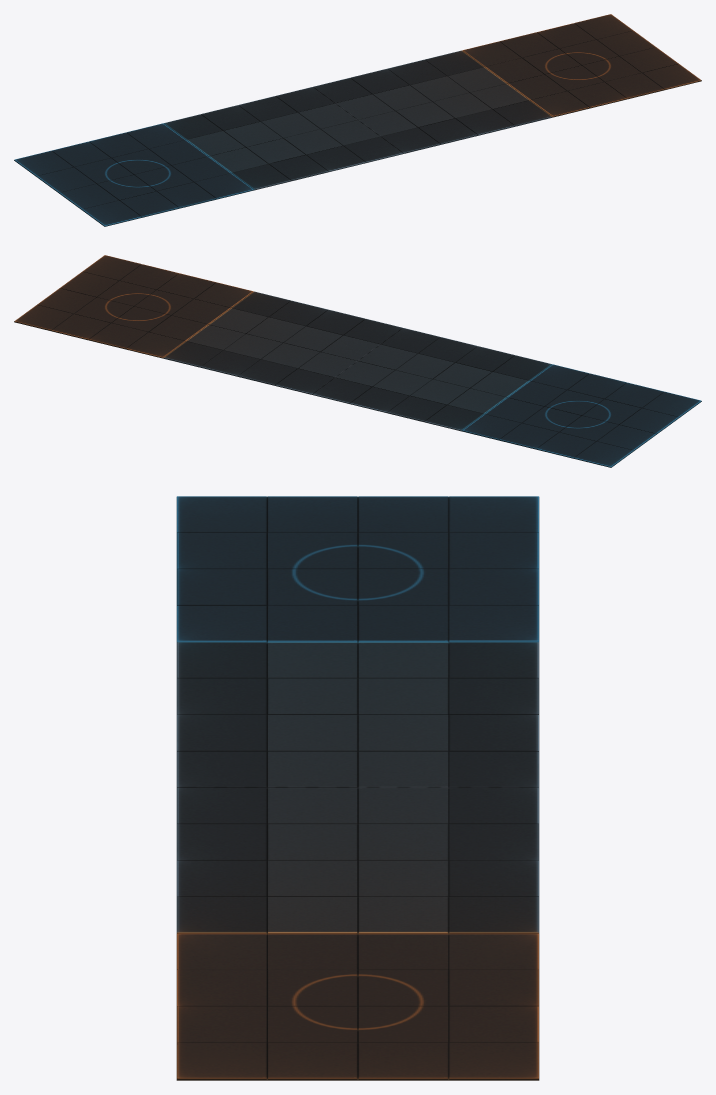
File: A02_floor.glb
The picture shows the model from 3 angles, top to bottom: view 1: azimuth 30°, elevation 25°; view 2: azimuth 150°, elevation 25°; view 3: azimuth 270°, elevation 25°; orthographic projection. The views are drawn at different scales.
Parts seen in each view (by area): view 1: floor; view 2: floor; view 3: floor.
Part boxes in pixels (<box>): floor: <box>14,14,701,226</box>; floor: <box>14,255,701,467</box>; floor: <box>176,496,539,1080</box>.
Bounding box in the file's own units: 19 × 0.03 × 5.
Materials: 5 (5 with a texture image).
